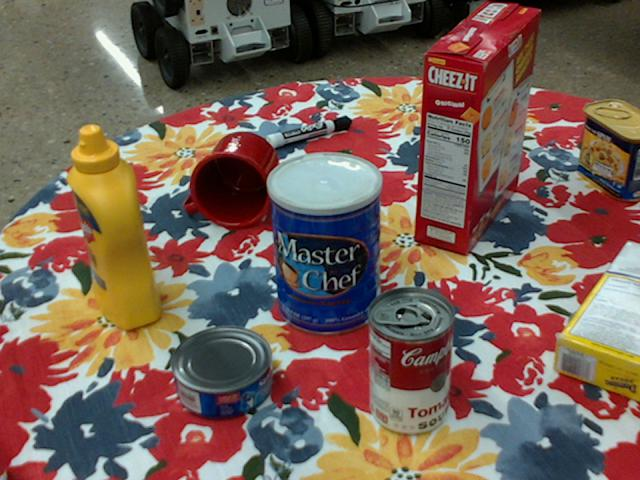cracker_box: (418, 3, 540, 254)
gelatin_box: (422, 104, 491, 155)
large_marker: (264, 114, 350, 148)
master_chef_can: (266, 152, 381, 336)
mug: (183, 131, 277, 230)
mustard_bottle: (67, 126, 162, 329)
potted_meat_can: (577, 98, 639, 200)
sugar_box: (554, 241, 639, 400)
tomato_soup_can: (367, 285, 454, 435)
tuna_fish_can: (168, 325, 270, 418)
